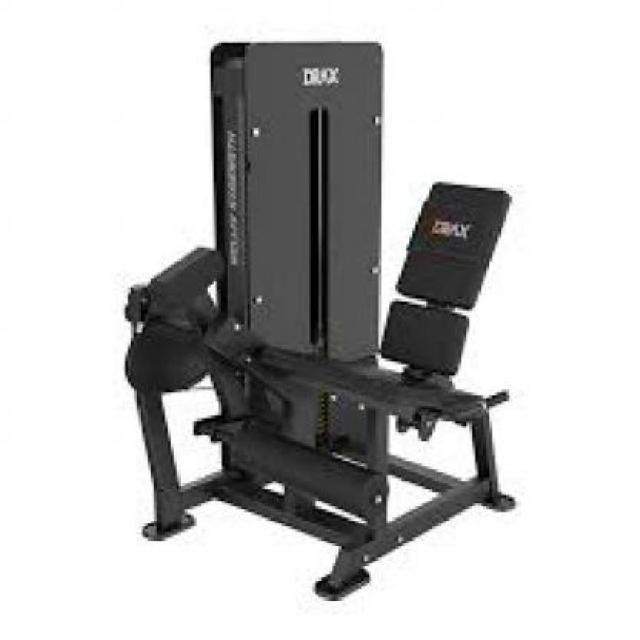leg extension: (111, 26, 526, 602)
